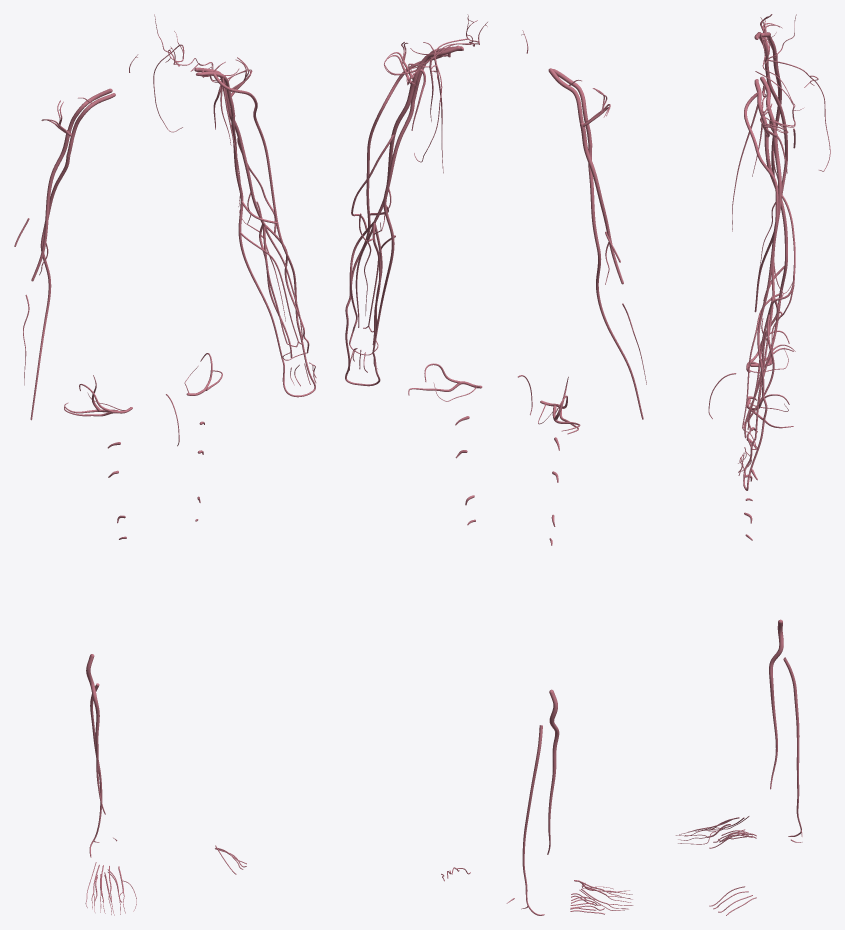
The model's file is cardiovascular-04.glb.
3 views of the same model, side by side, from view 1: azimuth 30°, elevation 25°; view 2: azimuth 150°, elevation 25°; view 3: azimuth 270°, elevation 25° (orthographic). The views are drawn at different scales.
Visible parts, largest first — view 1: FJ2220, FJ2270, FJ2218; view 2: FJ2270, FJ2220, FJ2218, FJ2271, FJ2193, FJ2200; view 3: FJ2220, FJ2218, FJ2193, FJ2270, FJ2200, FJ2219, FJ2242, FJ2271.
Part boxes in pixels (x1=…): FJ2220: x1=213, y1=72, x2=306, y2=361; FJ2270: x1=30, y1=155, x2=70, y2=420; FJ2218: x1=231, y1=115, x2=282, y2=358; FJ2270: x1=588, y1=145, x2=643, y2=419; FJ2220: x1=345, y1=56, x2=443, y2=356; FJ2218: x1=372, y1=101, x2=414, y2=353; FJ2271: x1=580, y1=122, x2=623, y2=284; FJ2193: x1=547, y1=689, x2=559, y2=854; FJ2200: x1=522, y1=725, x2=544, y2=915; FJ2220: x1=744, y1=92, x2=778, y2=459; FJ2218: x1=754, y1=158, x2=787, y2=438; FJ2193: x1=769, y1=619, x2=783, y2=789; FJ2270: x1=754, y1=75, x2=787, y2=312; FJ2200: x1=783, y1=657, x2=801, y2=836; FJ2219: x1=771, y1=133, x2=781, y2=298; FJ2242: x1=746, y1=298, x2=774, y2=449; FJ2271: x1=771, y1=55, x2=781, y2=176.
Bounding box in the file's own units: 0.5341 × 1.5 × 0.2414.
